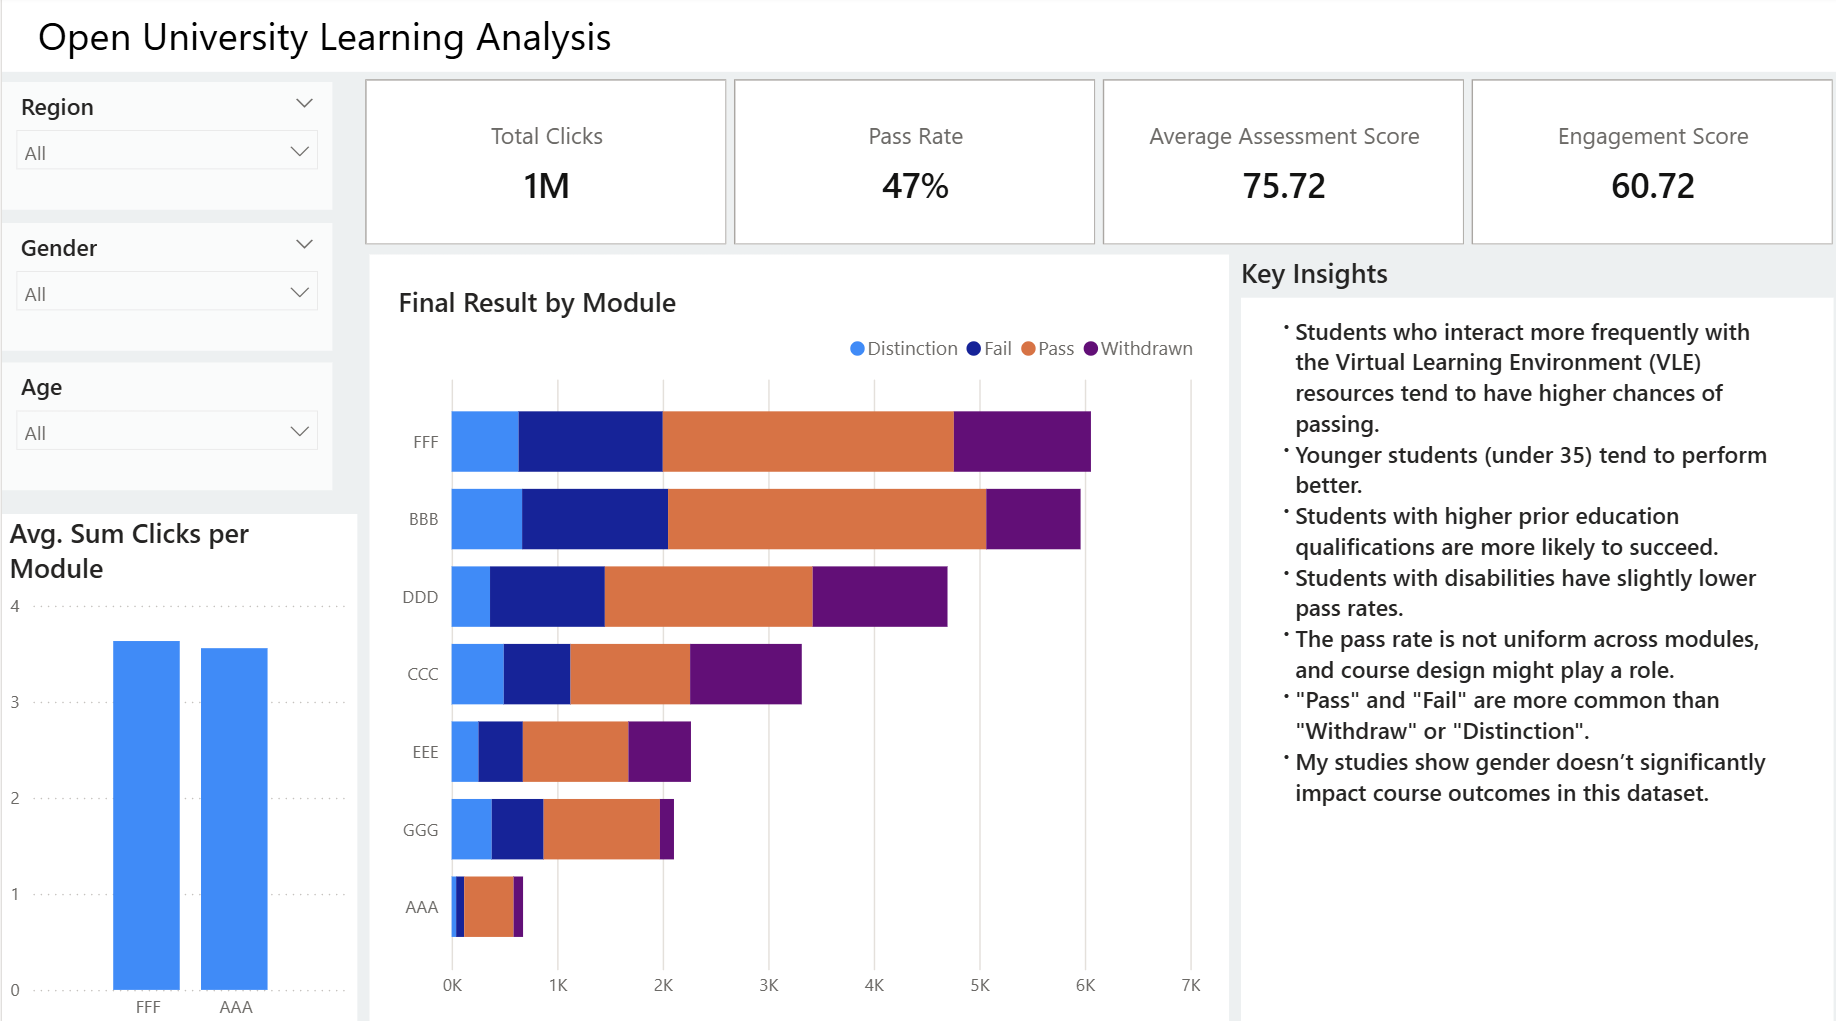

Layout of this report page (visuals, bound fields, positions):
{"tool":"powerbi","page":{"name":"Page 2","canvas":[1280,720],"ordinal":1},"visuals":[{"type":"cardVisual","fields":{"Data":["OULAD ( Student Assessment).Total Clicks","OULAD ( Student Assessment).Pass Rate","OULAD ( Student Assessment).Average Assessment Score","OULAD ( Student Assessment).Engagement Score"]},"box":[246.8,53.1,1032.9,126],"z":0},{"type":"barChart","title":"Final Result by Module","fields":{"Series":["OULAD (studentInfo).final_result"],"Y":["CountNonNull(OULAD (studentInfo).id_student)"],"Category":["OULAD (Assessment).code_module"]},"box":[255,180,596.8,540],"z":1000},{"type":"columnChart","title":"Avg. Sum Clicks per Module","fields":{"Category":["OULAD (Assessment).code_module"],"Y":["Avg(OULAD (Student VLE Processed).sum_click)"]},"box":[0,360,246.4,360],"z":2000},{"type":"shape","box":[0,0,1279.3,53.6],"z":3000},{"type":"slicer","fields":{"Values":["OULAD (studentInfo).region"]},"box":[0,60.4,229.1,88.5],"z":4000},{"type":"slicer","fields":{"Values":["OULAD (studentInfo).gender"]},"box":[0,158.3,229.1,88.5],"z":5000},{"type":"slicer","fields":{"Values":["OULAD (studentInfo).age_band"]},"box":[0,255.1,229.1,88.5],"z":6000},{"type":"shape","title":"Key Insights","box":[860.4,180,411.4,540],"z":8000},{"type":"textbox","box":[874.3,216.4,358.9,399.6],"z":8500}]}

Visuals, with their boxes in screenshot pixels (x1, y1, x2, y2), scaled from the page's 1280x720 canvas onto the 1836x1021 screenshot:
cardVisual - OULAD ( Student Assessment).Total Clicks x OULAD ( Student Assessment).Pass Rate: [354, 75, 1835, 254]
"Final Result by Module" barChart: [366, 255, 1222, 1020]
"Avg. Sum Clicks per Module" columnChart: [0, 510, 353, 1020]
shape: [0, 0, 1835, 76]
slicer - OULAD (studentInfo).region: [0, 86, 329, 211]
slicer - OULAD (studentInfo).gender: [0, 224, 329, 350]
slicer - OULAD (studentInfo).age_band: [0, 362, 329, 487]
"Key Insights" shape: [1234, 255, 1824, 1020]
textbox: [1254, 307, 1769, 874]
